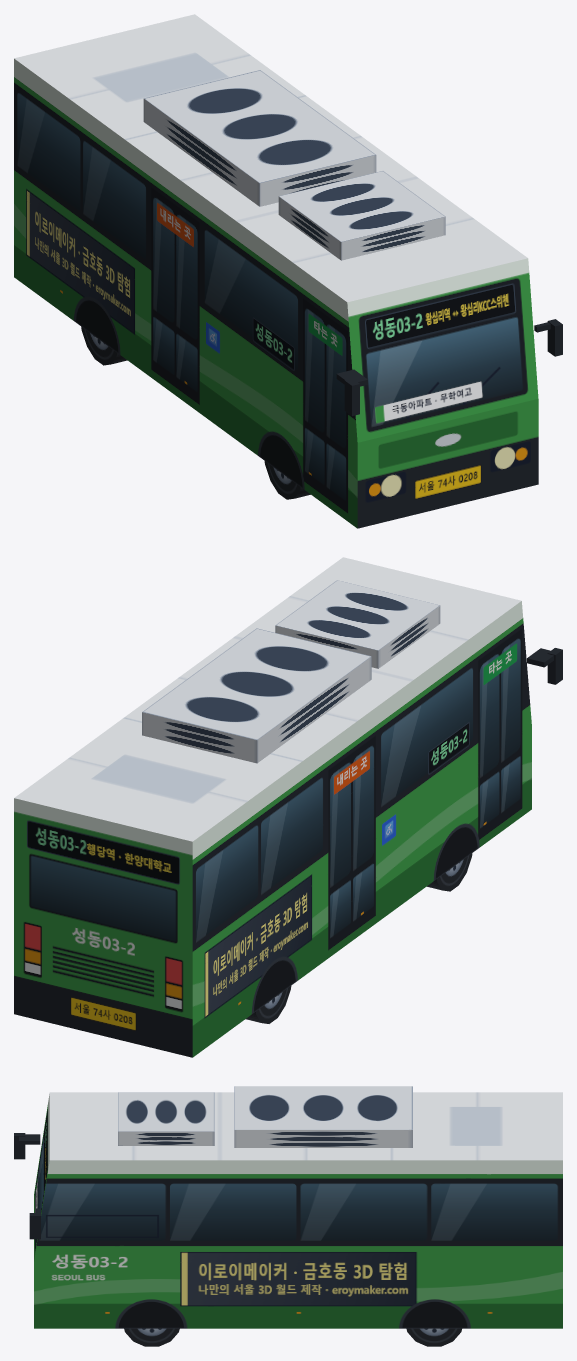
Rendered from bus_성동03-2.glb.
3 views of the same model, one above another, from view 1: azimuth 30°, elevation 25°; view 2: azimuth 150°, elevation 25°; view 3: azimuth 270°, elevation 25° (orthographic). The views are drawn at different scales.
Visible parts, largest first — view 1: SeoulBus_town_성동02; view 2: SeoulBus_town_성동02; view 3: SeoulBus_town_성동02.
Part boxes in pixels (x1,y1,x2,y2): SeoulBus_town_성동02: (14,14,562,528); SeoulBus_town_성동02: (14,557,562,1057); SeoulBus_town_성동02: (14,1086,562,1346).
Bounding box in the file's own units: 2.75 × 3.17 × 7.68.
1 material, 1 textured.
